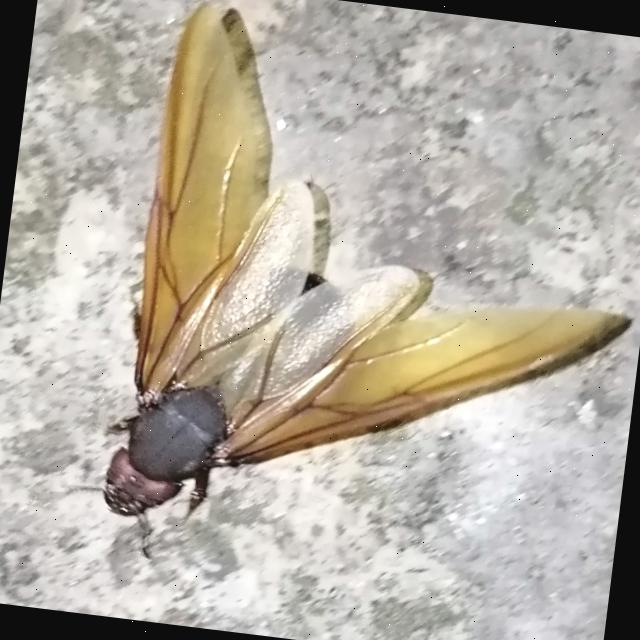Alive-Female-Alate: (38, 0, 640, 613)
